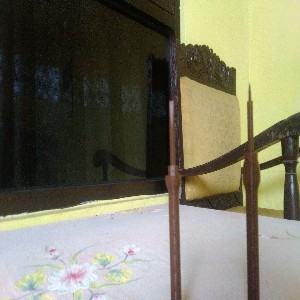obeng: (164, 100, 181, 300)
solder: (241, 82, 262, 300)
